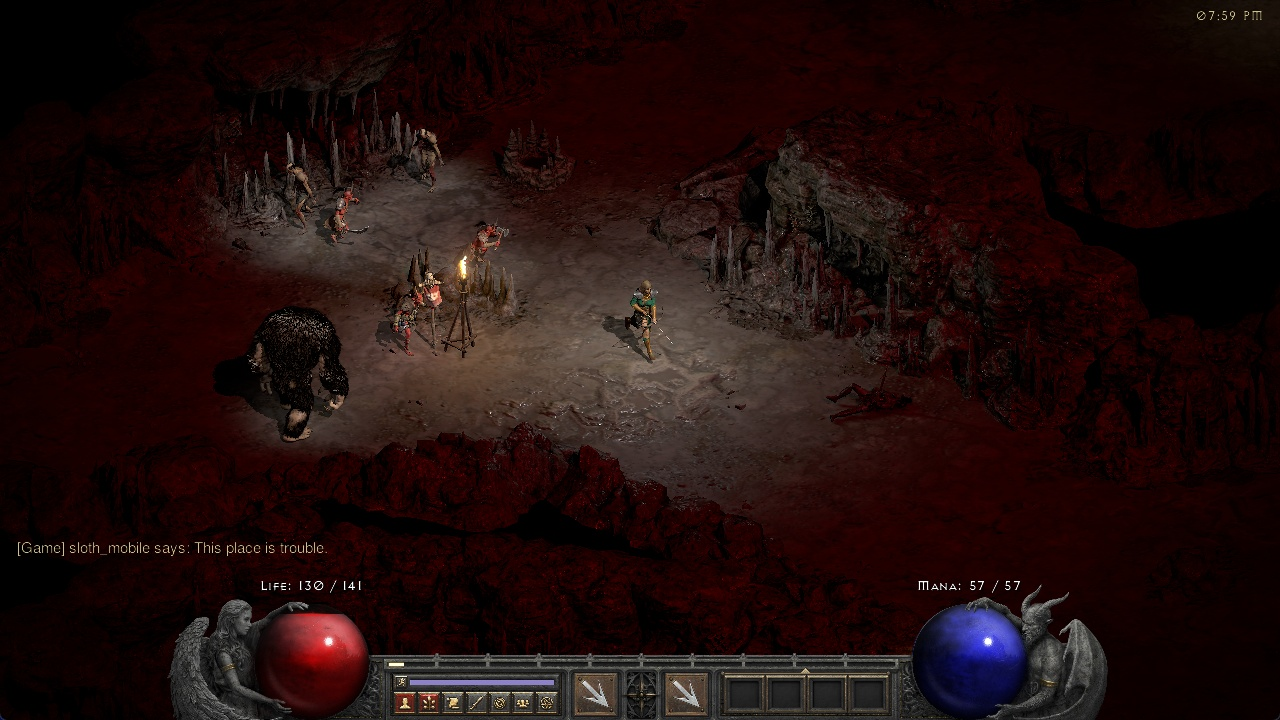fallen: (322, 185, 373, 246), (462, 219, 509, 266)
